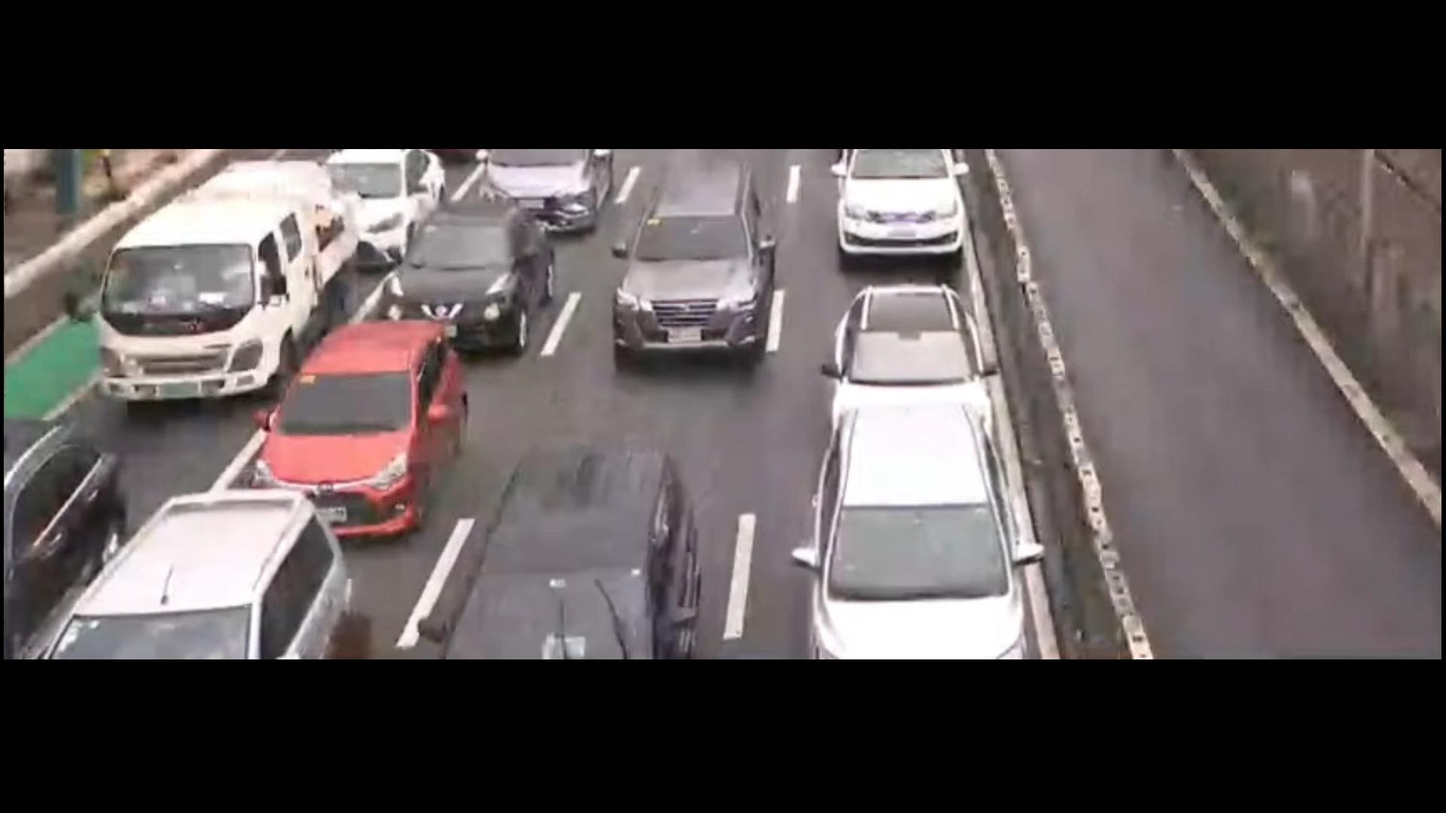SUV: (802, 412, 1056, 668), (424, 446, 695, 662), (43, 491, 356, 657), (821, 280, 1005, 455), (619, 173, 776, 361), (838, 151, 960, 258)
Sedan: (254, 326, 474, 538), (378, 209, 557, 359), (0, 414, 109, 649)
Truck: (70, 164, 363, 410)
